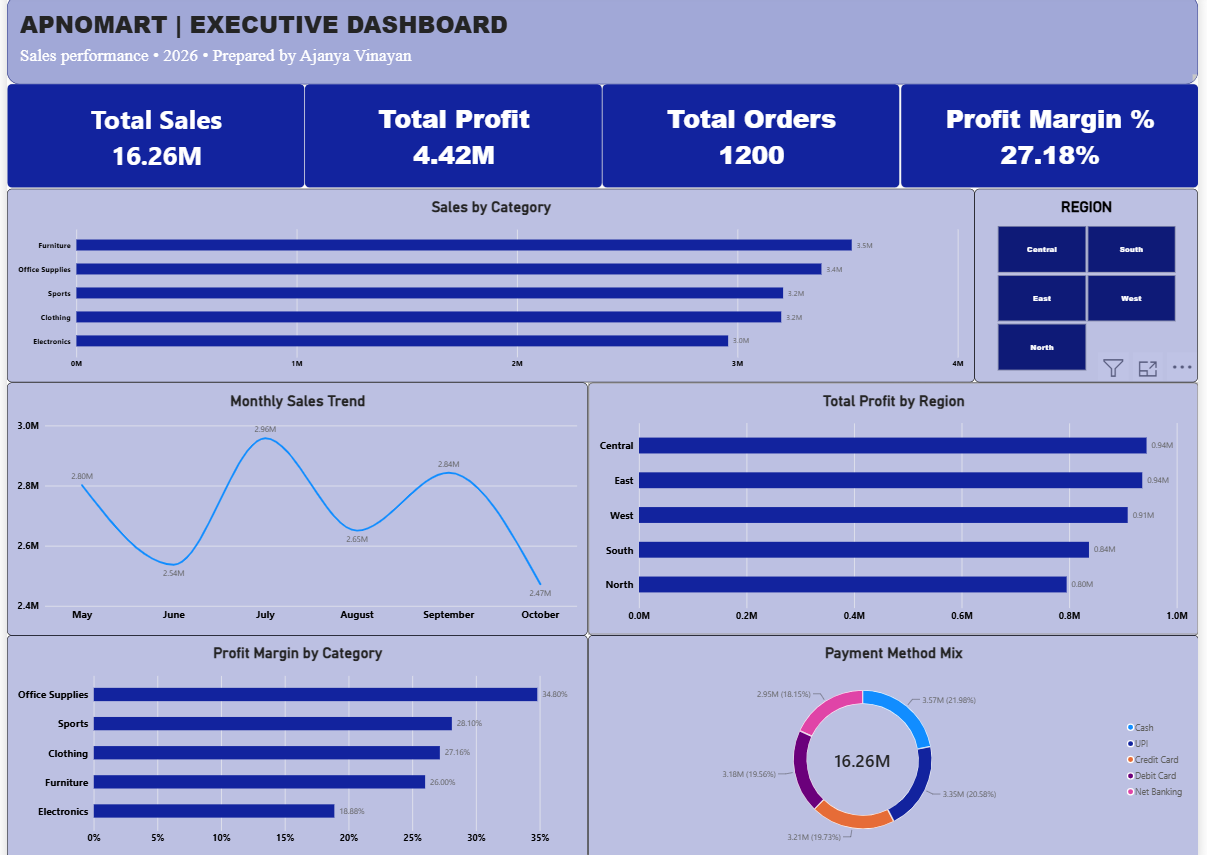

What the dashboard file says about the page in this screenshot:
{"tool":"powerbi","page":{"name":"Page 1","canvas":[1920,1400],"ordinal":0},"visuals":[{"type":"textbox","title":"APNOMART | EXECUTIVE DASHBOARD","box":[0,0,1920,144],"z":0},{"type":"cardVisual","fields":{"Data":["apnomart-sales-data.Total Sales"]},"box":[0,144,480,168],"z":1000},{"type":"cardVisual","fields":{"Data":["apnomart-sales-data.Total Profit"]},"box":[480,144,480,168],"z":2000},{"type":"cardVisual","fields":{"Data":["apnomart-sales-data.Total Orders"]},"box":[960,144,480,168],"z":3000},{"type":"cardVisual","fields":{"Data":["apnomart-sales-data.Profit Margin %"]},"box":[1440,144,480,168],"z":4000},{"type":"clusteredBarChart","title":"Sales by Category","fields":{"Category":["apnomart-sales-data.Category"],"Y":["Sum(apnomart-sales-data.Sales)"]},"box":[0,312,1560,312],"z":5000},{"type":"lineChart","title":"Monthly Sales Trend","fields":{"Category":["apnomart-sales-data.Order_Date.Variation.Date Hierarchy.Month"],"Y":["Sum(apnomart-sales-data.Sales)"]},"box":[0,624,936,408],"z":6000},{"type":"clusteredBarChart","fields":{"Category":["apnomart-sales-data.Region"],"Y":["apnomart-sales-data.Total Profit"]},"box":[936,624,984,408],"z":7000},{"type":"barChart","title":"Profit Margin by Category","fields":{"Category":["apnomart-sales-data.Category"],"Y":["apnomart-sales-data.Profit Margin %"]},"box":[0,1032,936,360],"z":8000},{"type":"donutChart","title":"Payment Method Mix","fields":{"Category":["apnomart-sales-data.Payment_Method"],"Y":["apnomart-sales-data.Total Sales"]},"box":[936,1032,984,360],"z":9000},{"type":"slicer","title":"REGION","fields":{"Values":["apnomart-sales-data.Region"]},"box":[1560,312,360,312],"z":10000}]}

Visuals, with their boxes in screenshot pixels (x1, y1, x2, y2), scaled from the page's 1920x1400 canvas onto the 1207x855 screenshot:
"APNOMART | EXECUTIVE DASHBOARD" textbox: x1=0 y1=0 x2=1206 y2=88
cardVisual - apnomart-sales-data.Total Sales: x1=0 y1=88 x2=302 y2=191
cardVisual - apnomart-sales-data.Total Profit: x1=302 y1=88 x2=604 y2=191
cardVisual - apnomart-sales-data.Total Orders: x1=604 y1=88 x2=905 y2=191
cardVisual - apnomart-sales-data.Profit Margin %: x1=905 y1=88 x2=1206 y2=191
"Sales by Category" clusteredBarChart: x1=0 y1=191 x2=981 y2=381
"Monthly Sales Trend" lineChart: x1=0 y1=381 x2=588 y2=630
clusteredBarChart - apnomart-sales-data.Region x apnomart-sales-data.Total Profit: x1=588 y1=381 x2=1206 y2=630
"Profit Margin by Category" barChart: x1=0 y1=630 x2=588 y2=850
"Payment Method Mix" donutChart: x1=588 y1=630 x2=1206 y2=850
"REGION" slicer: x1=981 y1=191 x2=1206 y2=381
